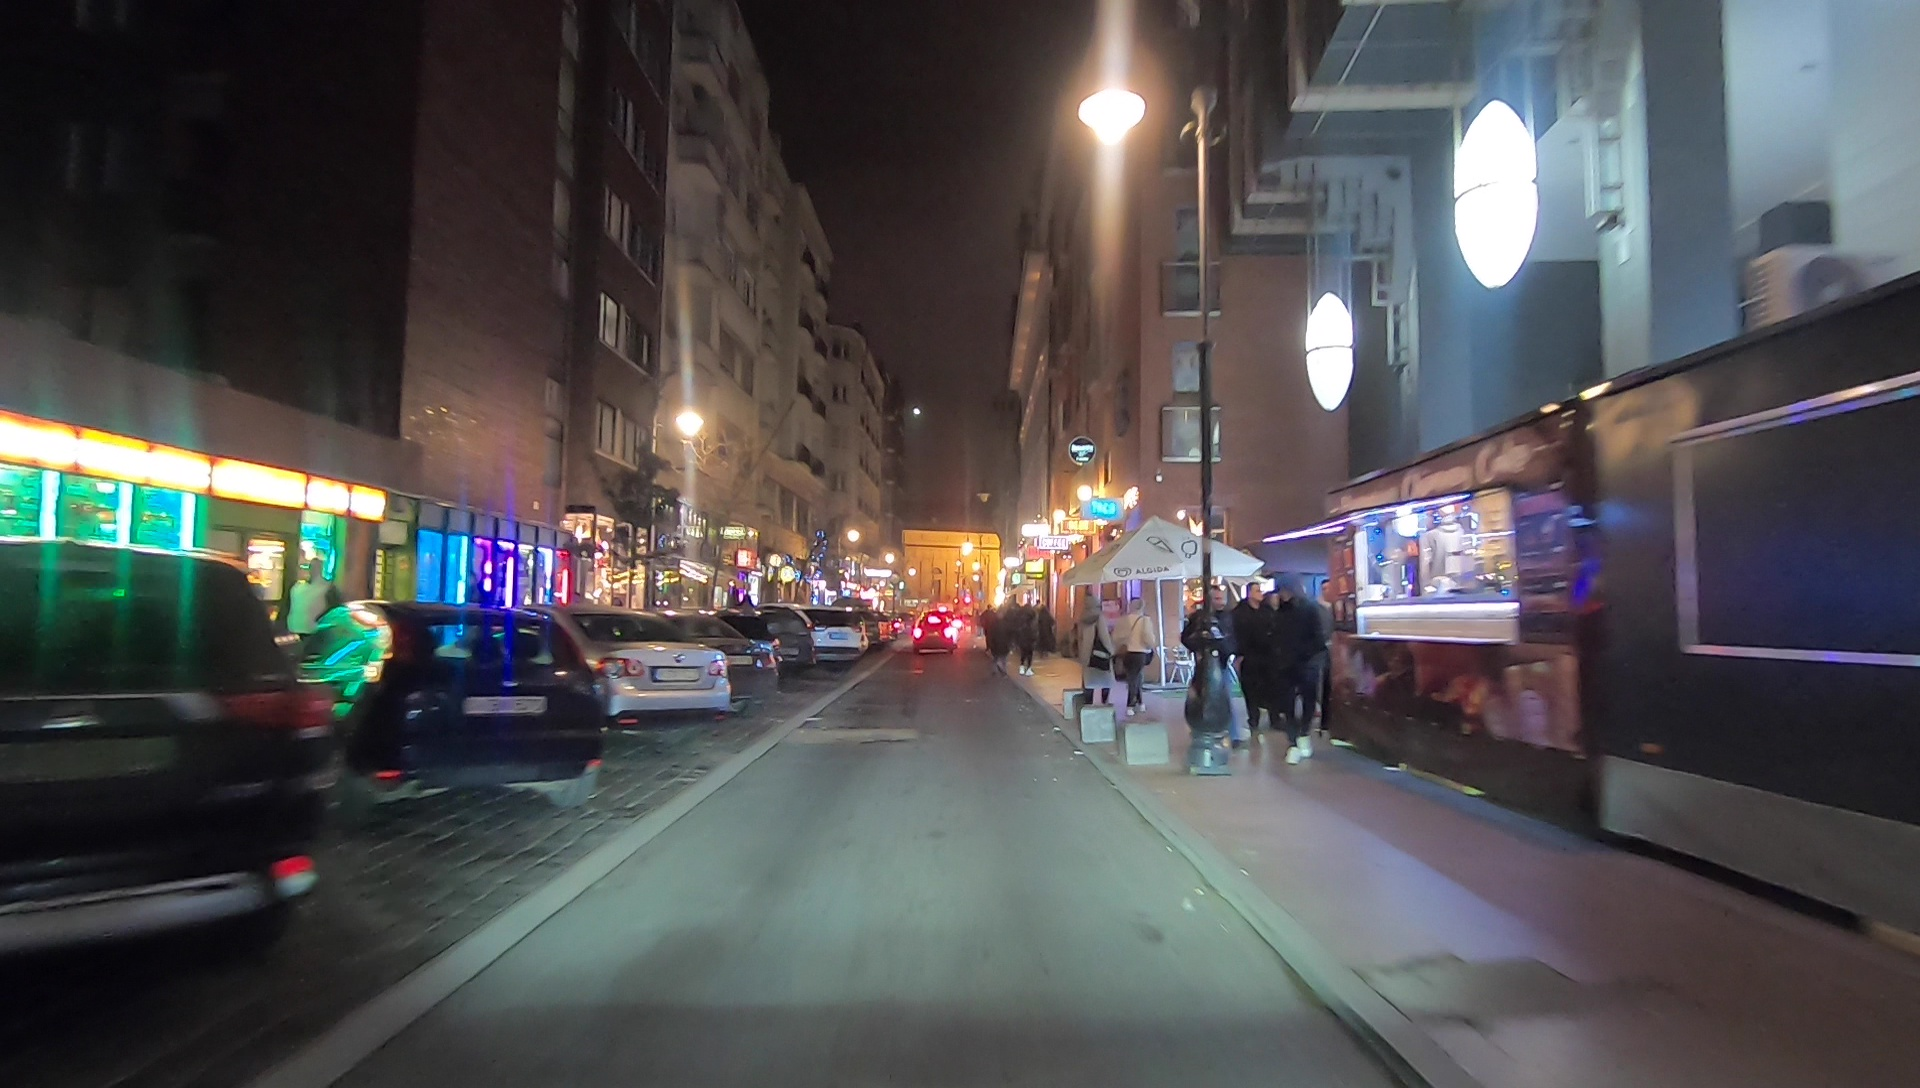person: (1272, 580, 1314, 764), (1194, 585, 1239, 735), (1238, 580, 1278, 725), (1074, 594, 1119, 707), (1113, 595, 1157, 713), (1013, 594, 1036, 676), (994, 599, 1016, 666)
